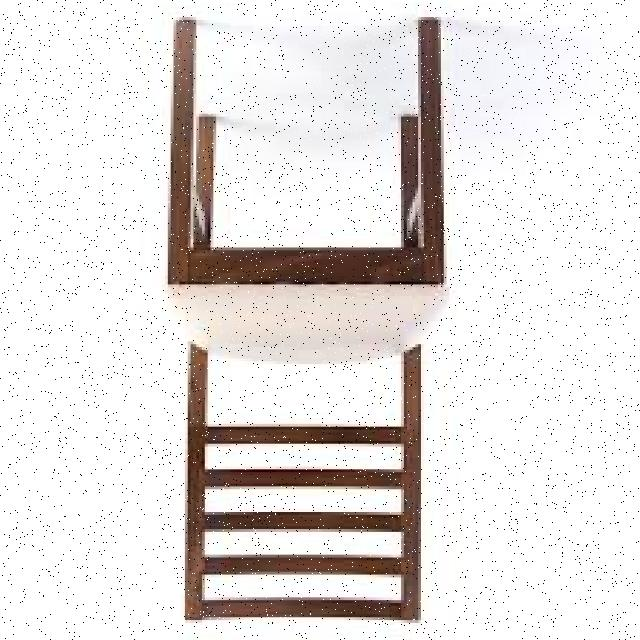bottle: (172, 16, 446, 629)
